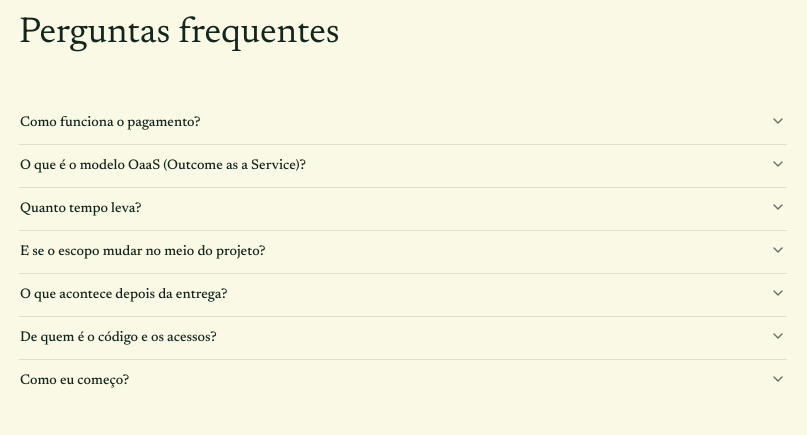
it: FaqSection › opening a second question closes the first (one open at a time)
This screenshot has width=807, height=435.
Step 1. Click the button "Como funciona o pagamento?" → (110, 123), box [19,102,787,144]
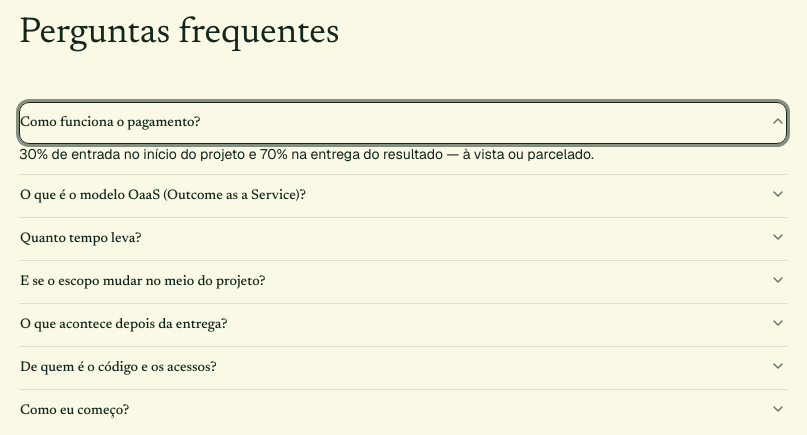
Now the button "Como funciona o pagamento?" is expanded, box [19,102,787,144]
Step 2. Click the button "O que é o modelo OaaS (Outcome as a Service)?" → (163, 196), box [19,175,787,217]
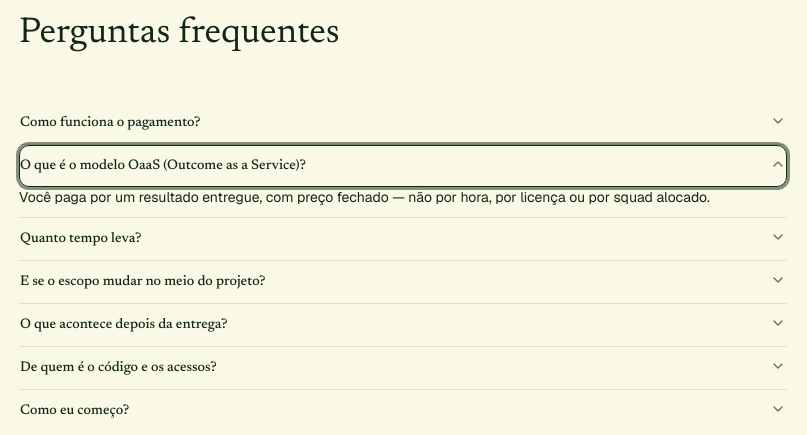
Now the button "O que é o modelo OaaS (Outcome as a Service)?" is expanded, box [19,145,787,187]
Now the button "Como funciona o pagamento?" is collapsed, box [19,102,787,144]
